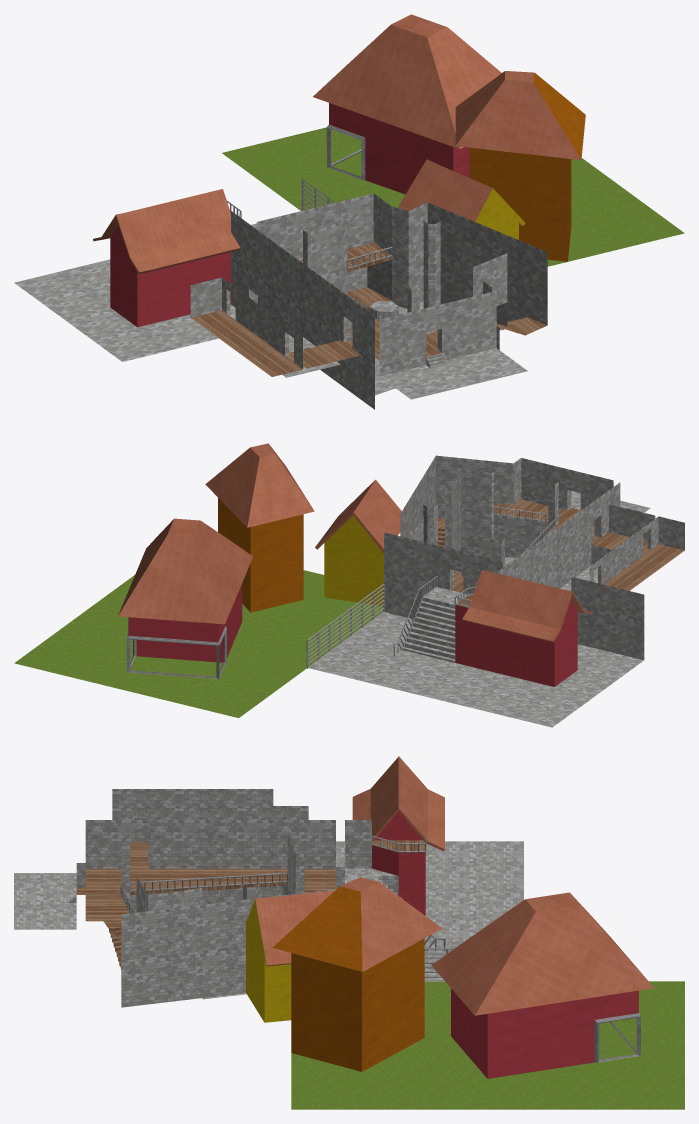
Rendered from Calavera.glb.
3 renders of one model, top to bottom at view 1: azimuth 30°, elevation 25°; view 2: azimuth 150°, elevation 25°; view 3: azimuth 270°, elevation 25°, orthographic. The views are drawn at different scales.
Parts seen in each view (by area): view 1: Plane.007, Plane.017, Plane.014, Plane.018; view 2: Plane.007, Plane.017, Plane.013, Plane.018, Plane.008, Plane.014; view 3: Plane.007, Plane.017, Plane.010, Plane.018.
Part boxes in pixels (x1,y1,x2,y2): Plane.007: (14,127,684,409); Plane.017: (313,14,585,261); Plane.014: (423,221,440,308); Plane.018: (326,124,365,180); Plane.007: (14,455,684,727); Plane.017: (118,443,401,662); Plane.013: (306,583,384,668); Plane.018: (126,626,226,678); Plane.008: (393,576,437,656); Plane.014: (423,505,437,545); Plane.007: (14,756,684,1109); Plane.017: (246,877,653,1078); Plane.010: (130,872,287,891); Plane.018: (594,1013,640,1062).
Size of the model in its own units: 71 by 22 by 75.
Materials: 9 (9 with a texture image).
